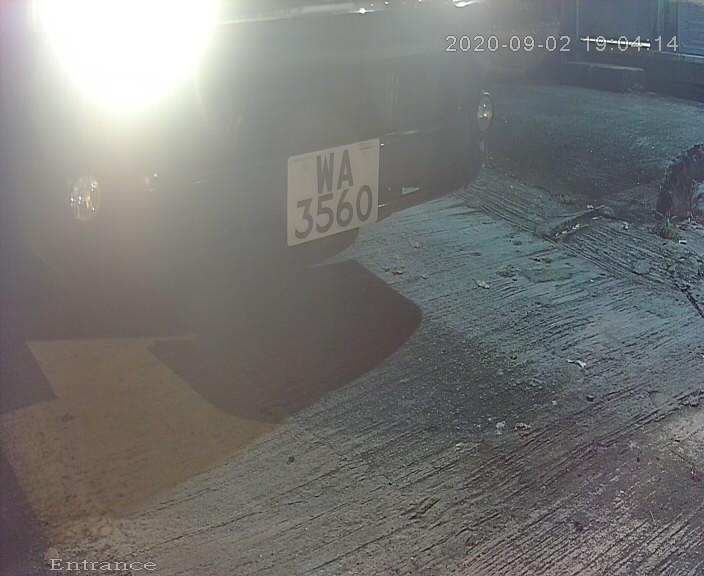License Plate: (280, 124, 390, 260)
